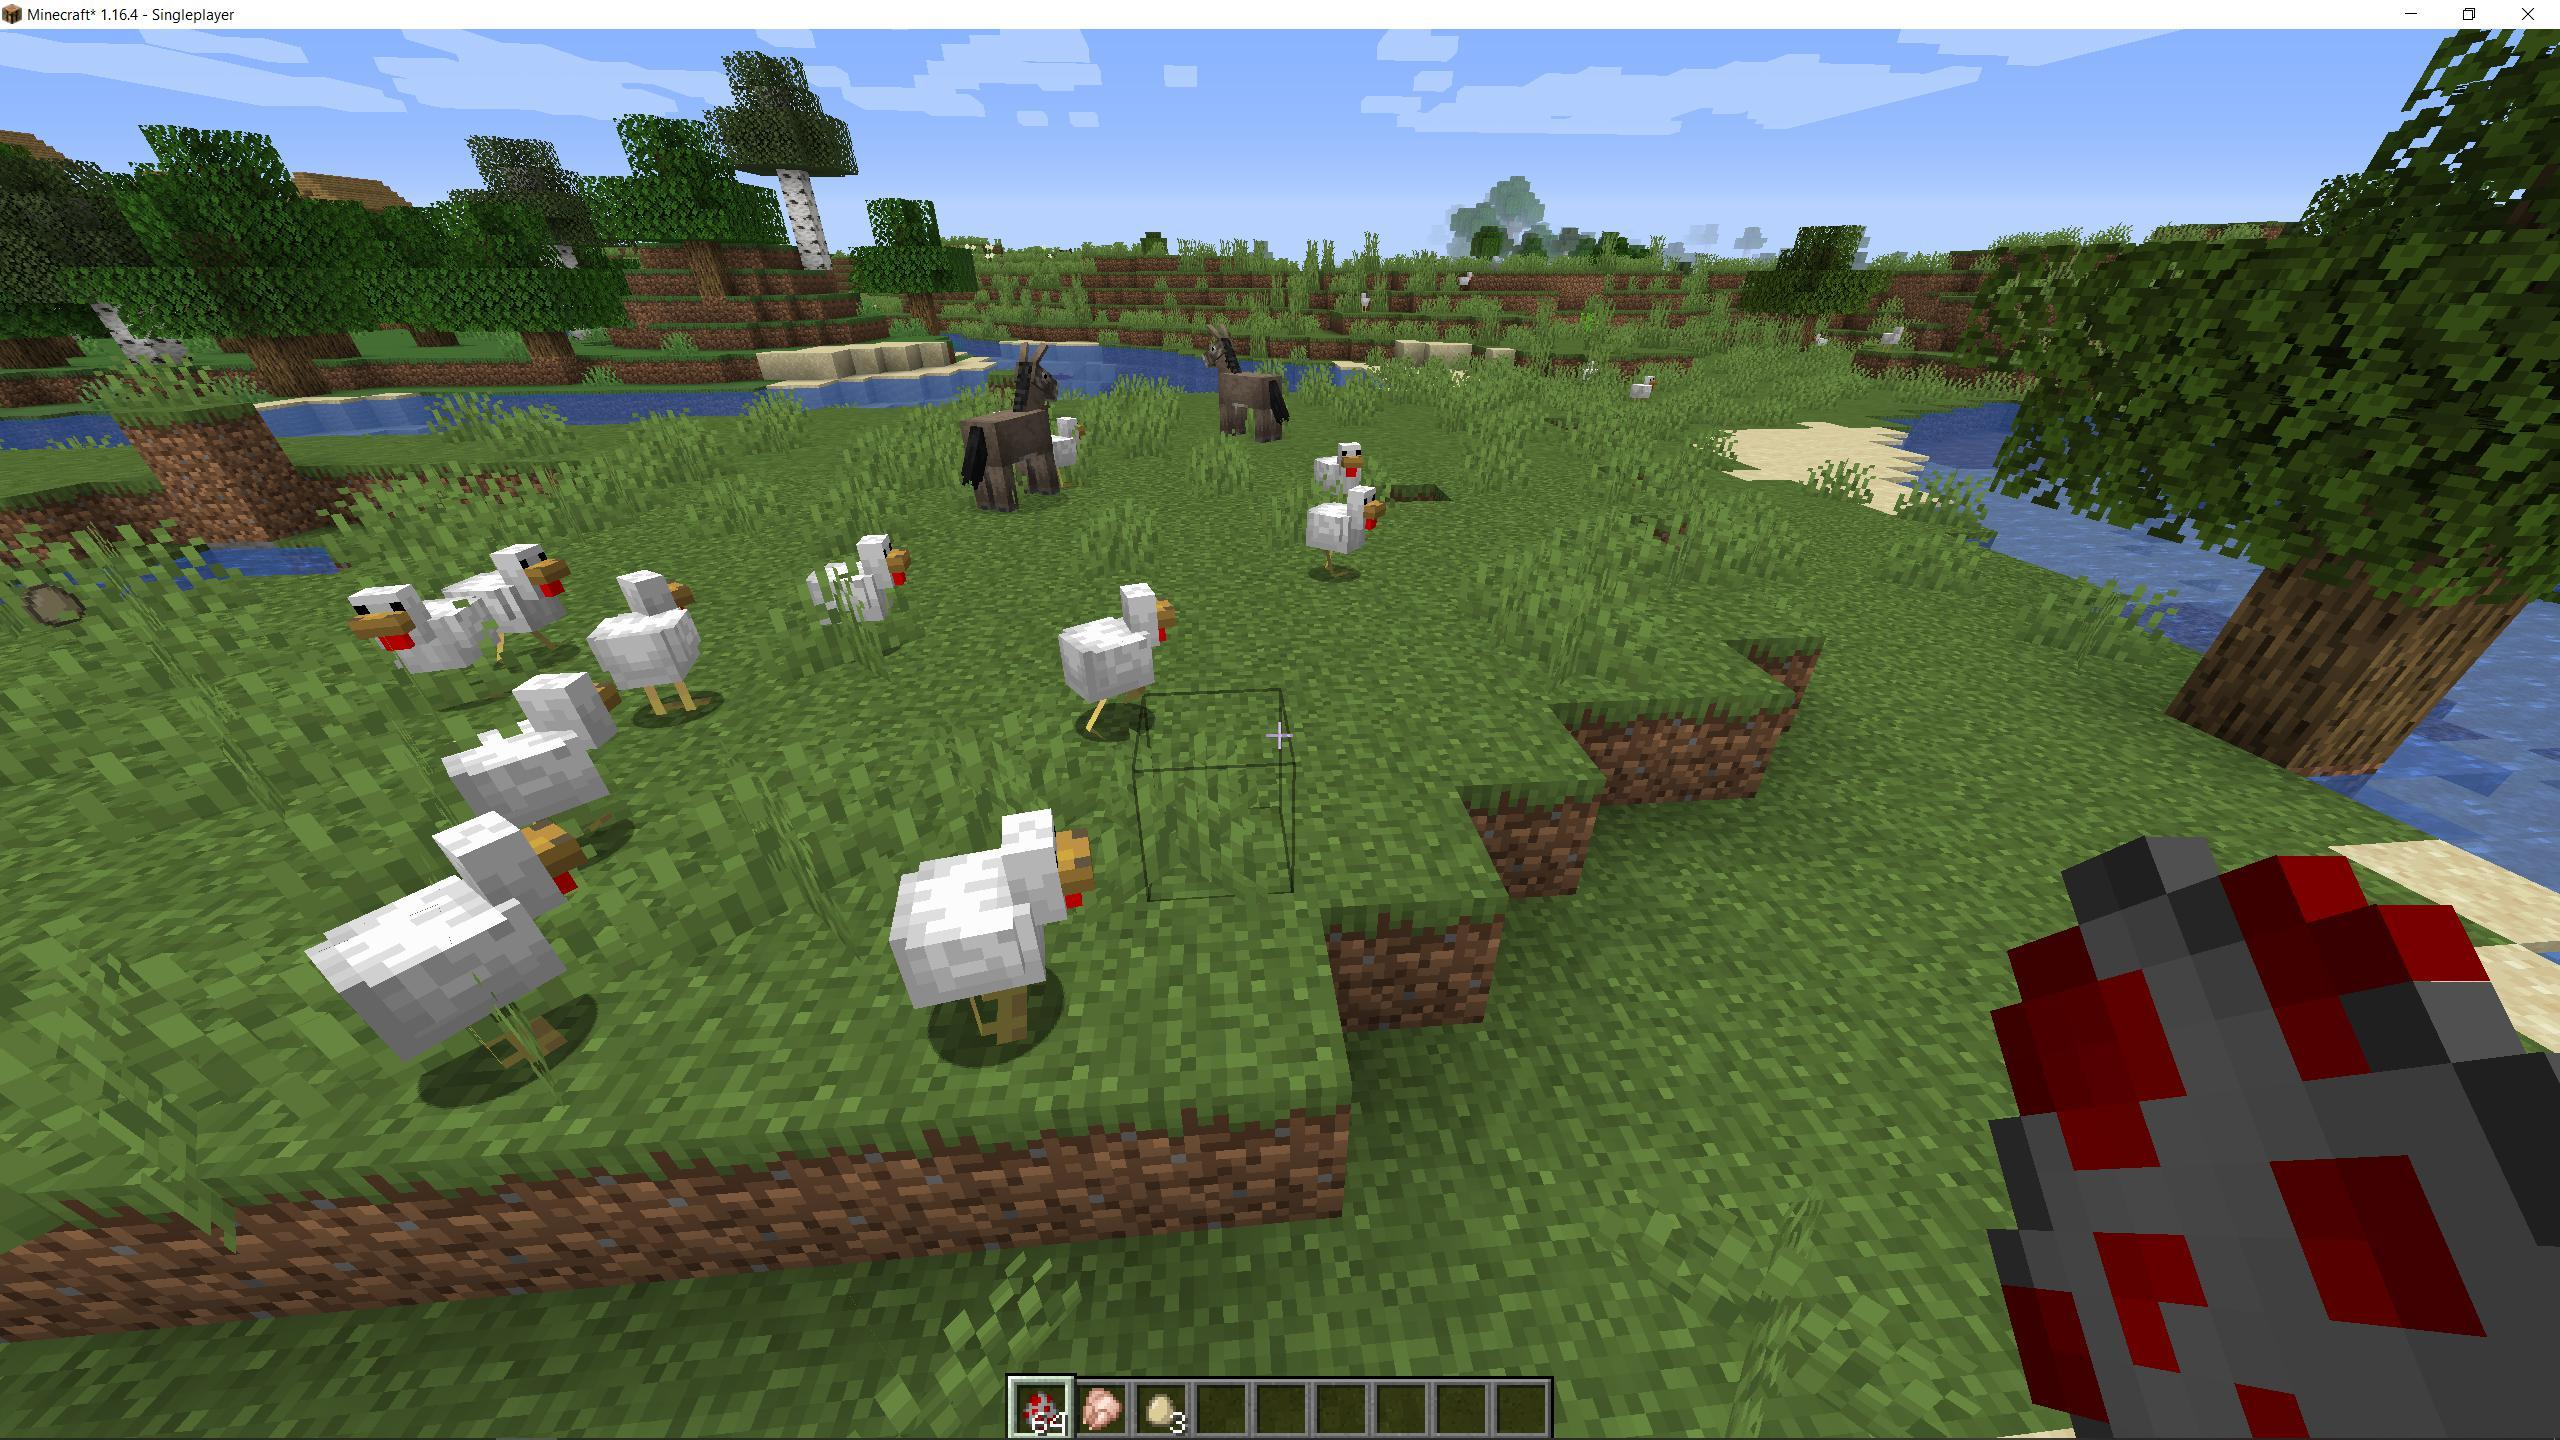chicken: (294, 805, 591, 1087), (888, 800, 1111, 1062), (436, 670, 635, 844), (1051, 573, 1197, 744), (589, 552, 714, 726), (800, 526, 921, 651)
